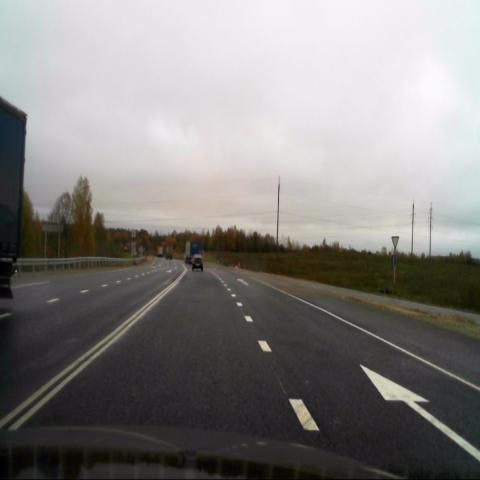2_4: (391, 236, 399, 252)
